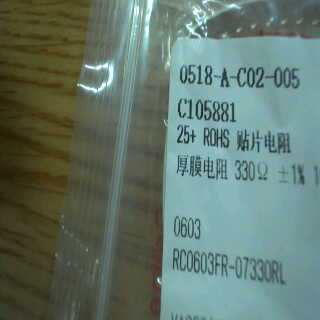330R: (232, 157, 272, 184)
